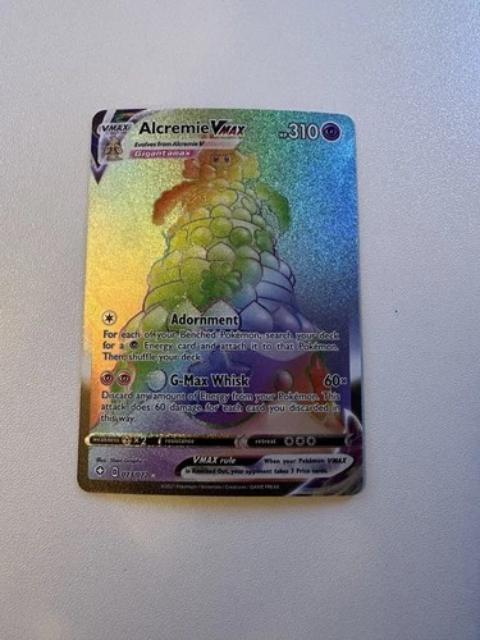Card: (70, 100, 370, 506)
Name: (132, 118, 251, 138)
